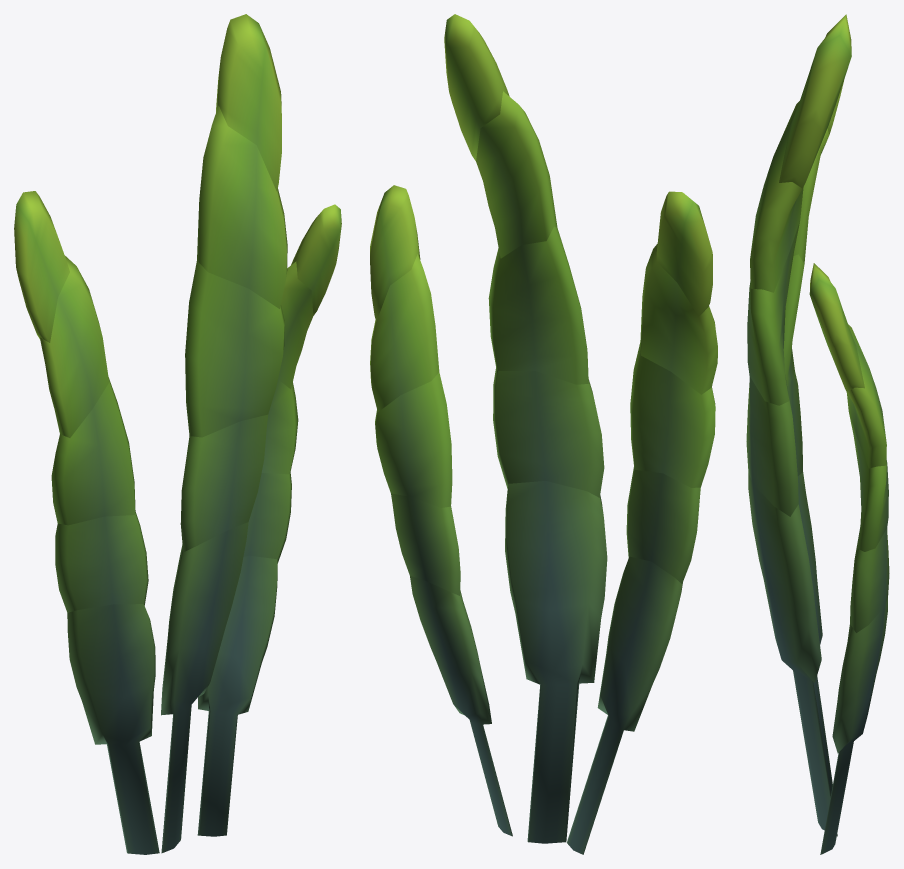
The model's file is Moss_03.fbx.
The picture shows the model from 3 angles, left to right: view 1: azimuth 30°, elevation 25°; view 2: azimuth 150°, elevation 25°; view 3: azimuth 270°, elevation 25°; orthographic projection. The views are drawn at different scales.
Parts seen in each view (by area): view 1: Moss_03; view 2: Moss_03; view 3: Moss_03.
Part boxes in pixels (x1,y1,x2,y2): Moss_03: (14,14,341,854); Moss_03: (370,14,717,854); Moss_03: (746,14,889,854).
Bounding box in the file's own units: 143 × 332 × 50.48.
